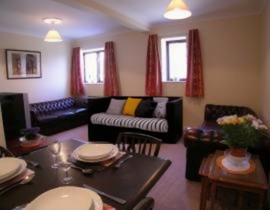cat: (88, 96, 182, 143)
chair: (106, 108, 163, 158)
diningtable: (2, 138, 174, 210)
pottedplant: (216, 113, 267, 167)
sofa: (184, 104, 269, 185), (29, 95, 97, 139)
